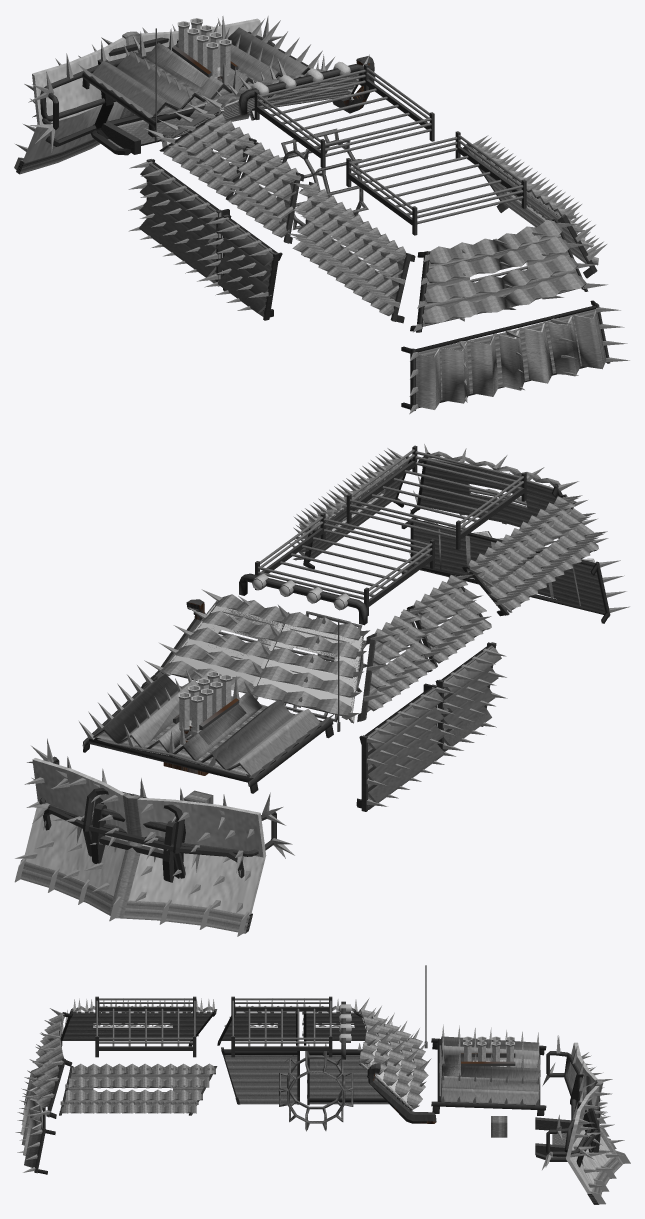
File: CarWagonArmor.fbx
The picture shows the model from 3 angles, top to bottom: view 1: azimuth 30°, elevation 25°; view 2: azimuth 150°, elevation 25°; view 3: azimuth 270°, elevation 25°; orthographic projection. The views are drawn at different scales.
Parts seen in each view (by area): view 1: windowreinforcedrear, roofrack, trunkreinforcedrear, plow, hoodreinforcedfront, windowheavyspikedrear, windowheavyrear, doorfrontreinforcedleft, hoodreinforcedfrontscoop, windowfrontreinforcedleft, windowrearreinforcedleft, doorrearreinforcedleft (+24 smaller); view 2: plow, roofrack, windowreinforcedfront, plow_spiked, hoodreinforcedfrontscoop, windowreinforcedrear, windowheavyrear, hoodreinforcedfront, doorfrontreinforcedleft, windowheavyspikedrear, windowheavyfront, trunkheavyspikedrear (+22 smaller); view 3: windowreinforcedrear, roofrack, windowheavyrear, hoodreinforcedfront, plow, windowreinforcedfront, doorrearheavyleft, windowheavyspikedrear, doorfrontheavyleft, hoodreinforcedfrontscoop, chaintires, windowrearheavyleft (+22 smaller).
Boxes of the visible parts, left/top/right/bottom form: windowreinforcedrear: left=292, top=145, right=598, bottom=323; roofrack: left=254, top=64, right=526, bottom=235; trunkreinforcedrear: left=416, top=305, right=606, bottom=409; plow: left=14, top=18, right=261, bottom=174; hoodreinforcedfront: left=92, top=27, right=310, bottom=123; windowheavyspikedrear: left=292, top=135, right=607, bottom=332; windowheavyrear: left=304, top=143, right=597, bottom=332; doorfrontreinforcedleft: left=139, top=162, right=219, bottom=283; hoodreinforcedfrontscoop: left=85, top=27, right=307, bottom=117; windowfrontreinforcedleft: left=163, top=114, right=252, bottom=196; windowrearreinforcedleft: left=228, top=142, right=299, bottom=237; doorrearreinforcedleft: left=215, top=217, right=276, bottom=317; plow: left=14, top=758, right=266, bottom=936; roofrack: left=255, top=445, right=526, bottom=615; windowreinforcedfront: left=161, top=594, right=361, bottom=716; plow_spiked: left=15, top=760, right=262, bottom=914; hoodreinforcedfrontscoop: left=88, top=674, right=326, bottom=782; windowreinforcedrear: left=293, top=451, right=598, bottom=612; windowheavyrear: left=303, top=452, right=596, bottom=616; hoodreinforcedfront: left=90, top=676, right=310, bottom=782; doorfrontreinforcedleft: left=364, top=687, right=445, bottom=809; windowheavyspikedrear: left=293, top=444, right=608, bottom=614; windowheavyfront: left=165, top=601, right=363, bottom=722; trunkheavyspikedrear: left=402, top=509, right=629, bottom=623; windowreinforcedrear: left=32, top=1006, right=215, bottom=1113; roofrack: left=95, top=996, right=332, bottom=1057; windowheavyrear: left=46, top=1009, right=217, bottom=1118; hoodreinforcedfront: left=437, top=1036, right=540, bottom=1105; plow: left=564, top=1042, right=630, bottom=1204; windowreinforcedfront: left=359, top=1009, right=428, bottom=1106; doorrearheavyleft: left=221, top=1047, right=299, bottom=1104; windowheavyspikedrear: left=28, top=998, right=216, bottom=1115; doorfrontheavyleft: left=307, top=1051, right=401, bottom=1105; hoodreinforcedfrontscoop: left=441, top=1036, right=540, bottom=1105; chaintires: left=279, top=1051, right=353, bottom=1131; windowrearheavyleft: left=217, top=1011, right=297, bottom=1045.
Bounding box in the file's own units: 278 × 225 × 759.
